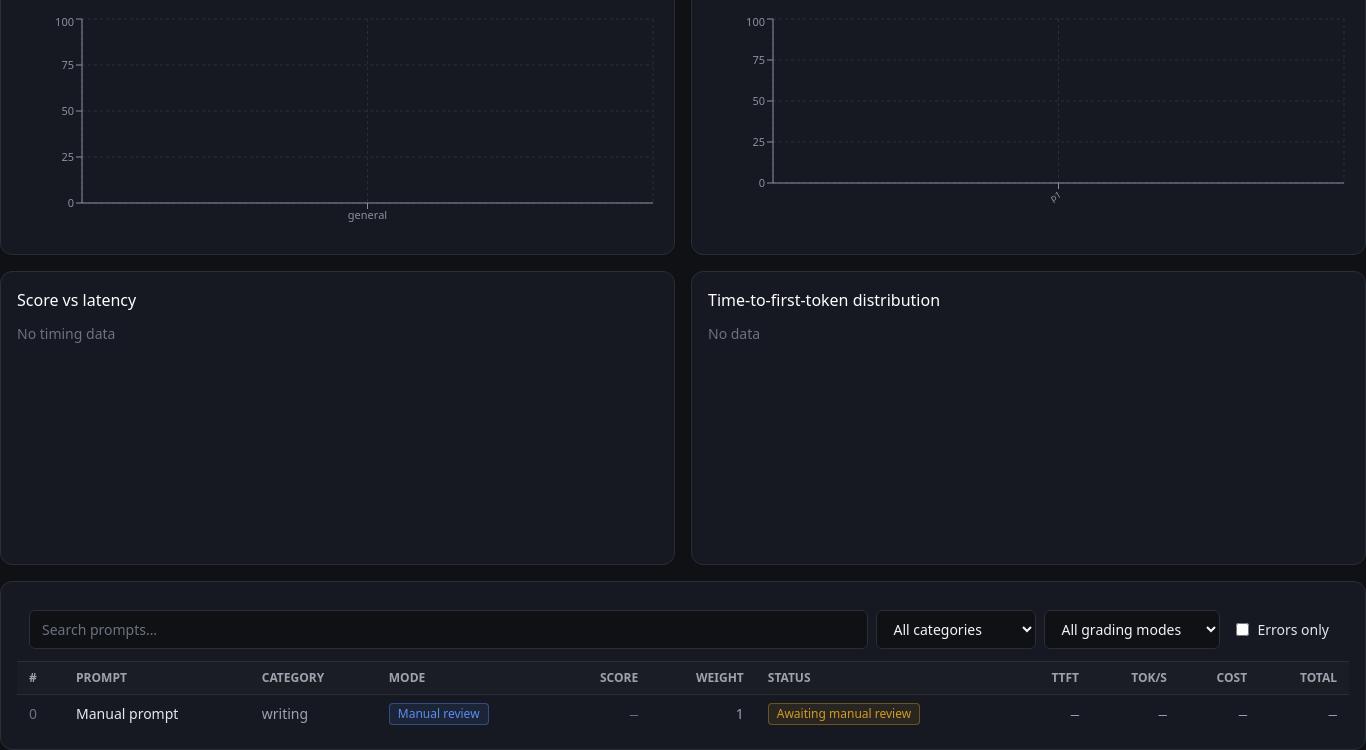
Test: Results summary and manual override › shows reasoning separately when no final answer was returned
The width and height of the screenshot is (1366, 750).
(page scrolled)
Click the text "Manual prompt": [157, 714] box [64,694,250,733]
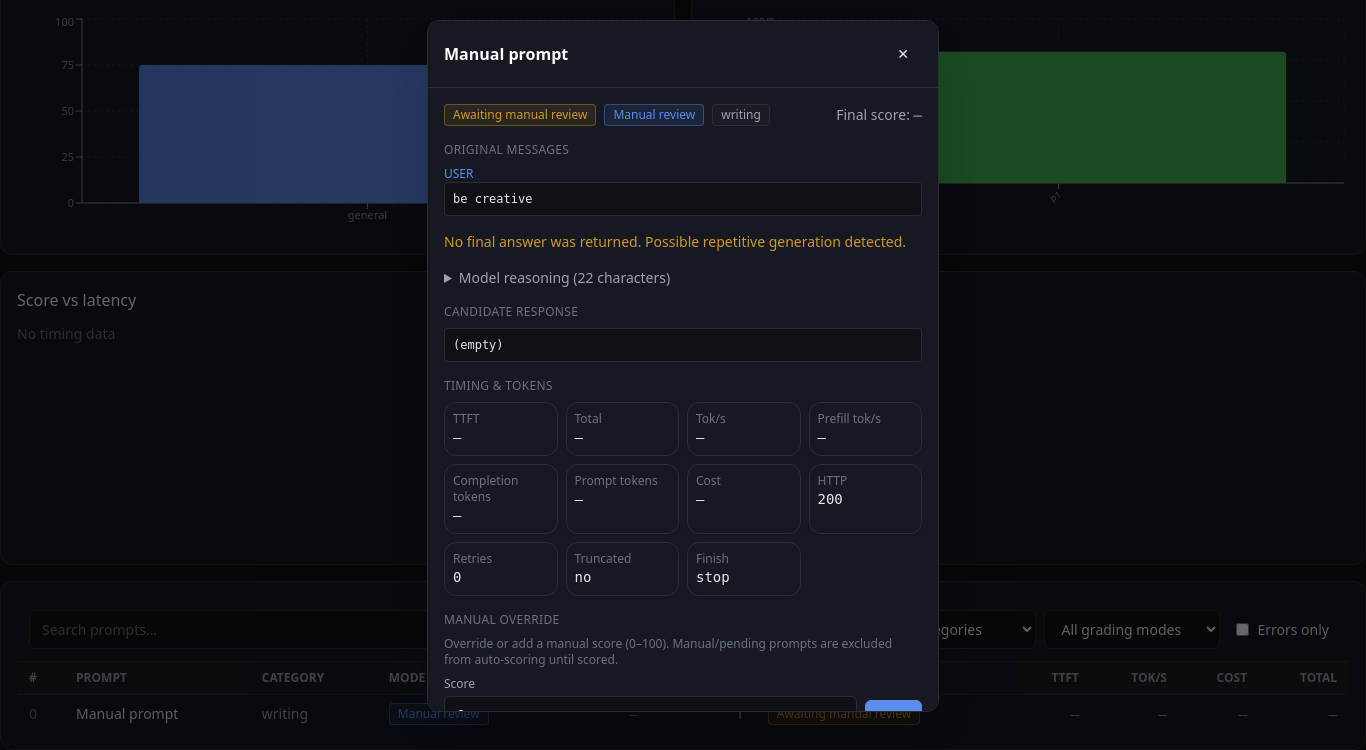
Now the text "No final answer was returned" is shown, box [444,232,645,251]
Now the text "(empty)" is shown, box [444,328,922,362]
